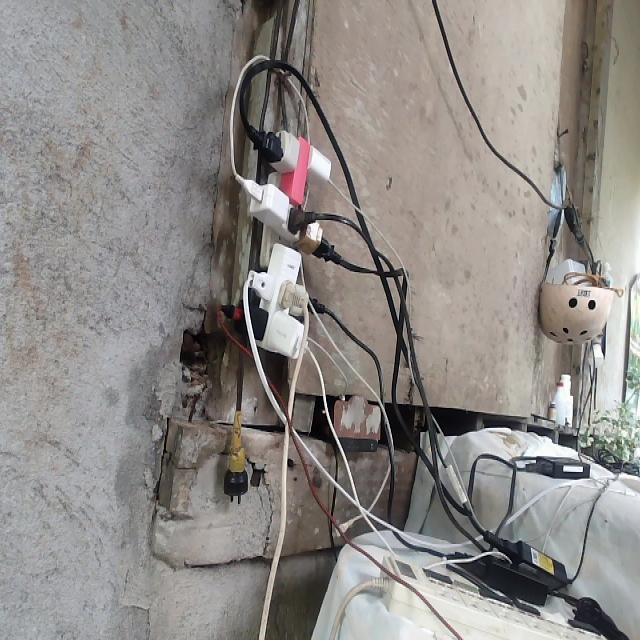-: (214, 102, 347, 370)
